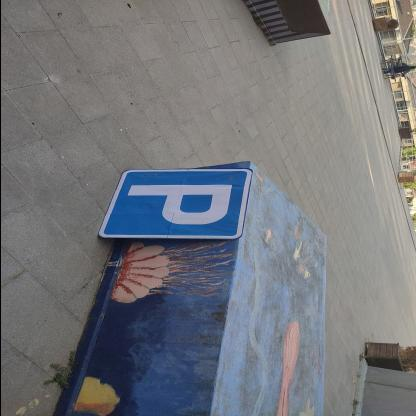Parking-Sign: (99, 169, 254, 241)
